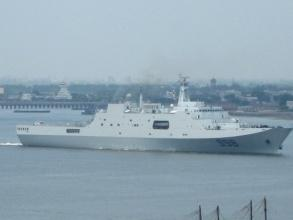warship: (12, 95, 291, 154)
